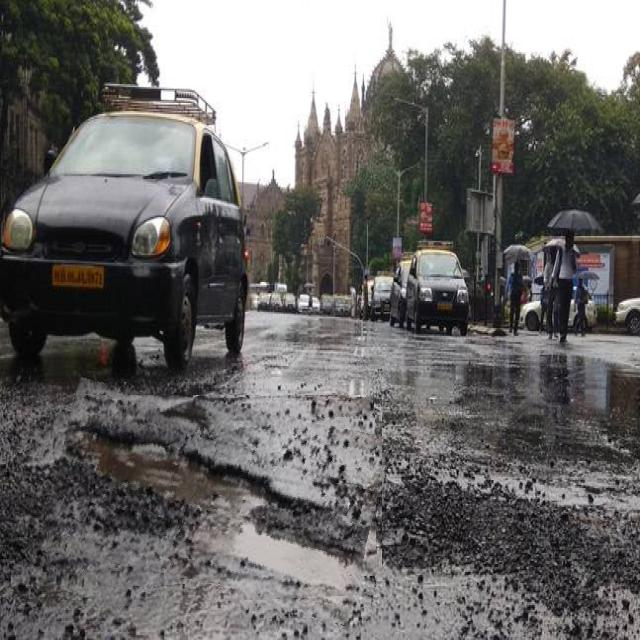Pothole: (46, 396, 382, 610)
